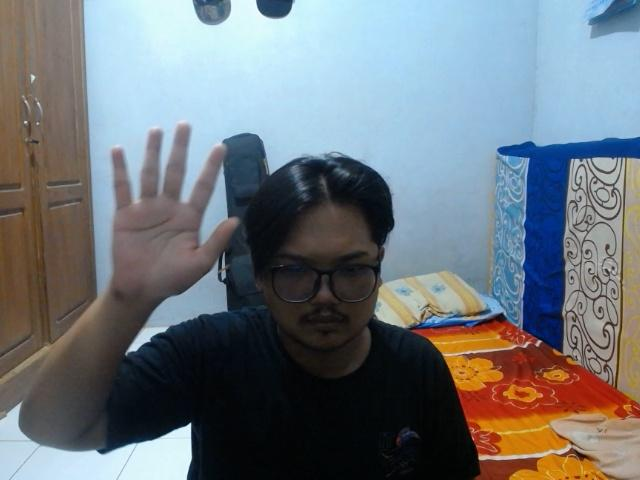Release: (103, 116, 243, 310)
